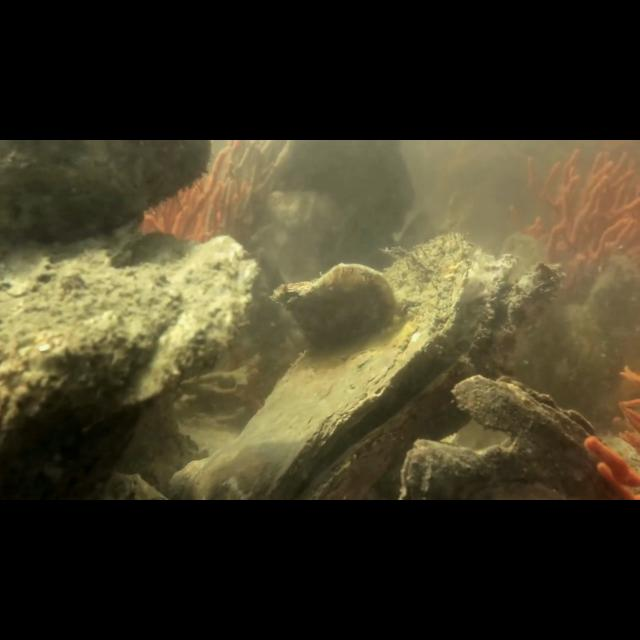Oyster-Closed: (3, 230, 267, 445), (397, 373, 601, 497)
Oyster-Open: (166, 222, 577, 496)
